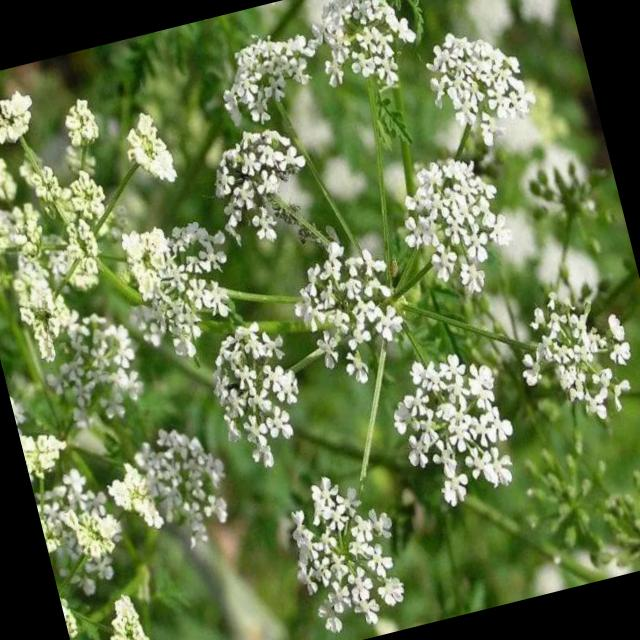Poisonous-Hemlock: (197, 0, 640, 547), (0, 78, 283, 640), (202, 283, 467, 640)
